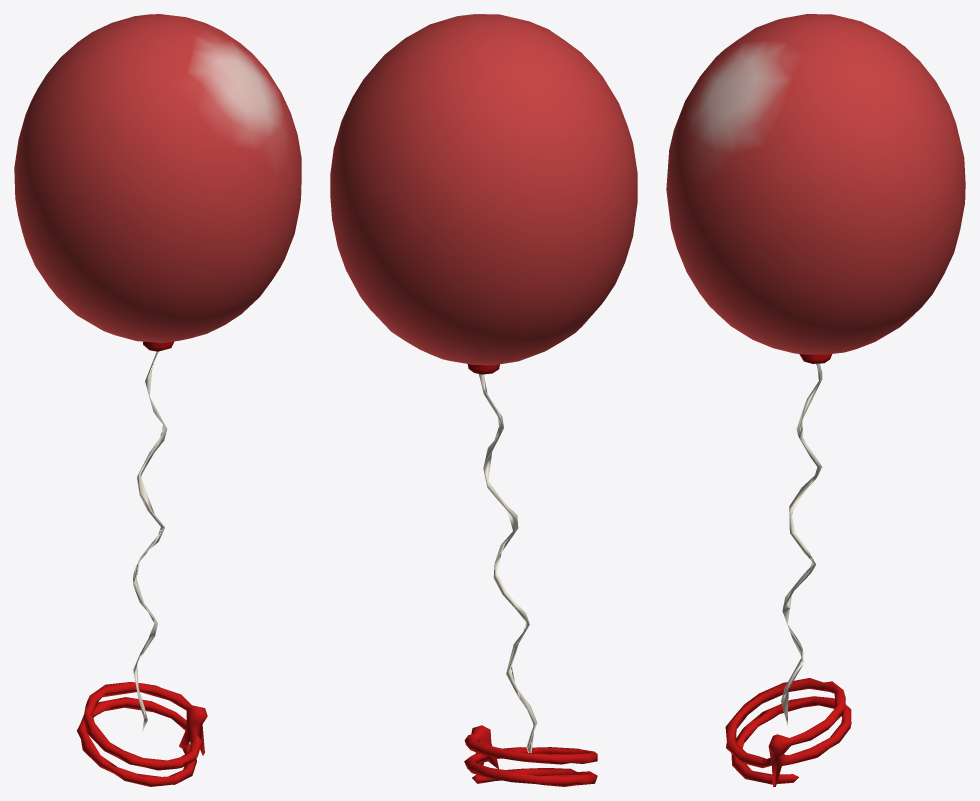
The model's file is bongbay.glb.
3 renders of one model, left to right at view 1: azimuth 30°, elevation 25°; view 2: azimuth 150°, elevation 25°; view 3: azimuth 270°, elevation 25°, orthographic. The views are drawn at different scales.
Visible parts, largest first — view 1: Bong, Day_Buoc, Day_Bong; view 2: Bong, Day_Buoc, Day_Bong; view 3: Bong, Day_Buoc, Day_Bong.
Boxes of the visible parts, left/top/right/bottom form: Bong: left=14, top=14, right=301, bottom=342; Day_Buoc: left=77, top=682, right=207, bottom=786; Day_Bong: left=133, top=351, right=167, bottom=732; Bong: left=330, top=14, right=637, bottom=365; Day_Buoc: left=464, top=725, right=597, bottom=786; Day_Bong: left=479, top=374, right=537, bottom=752; Bong: left=666, top=14, right=965, bottom=354; Day_Buoc: left=725, top=678, right=851, bottom=786; Day_Bong: left=781, top=363, right=822, bottom=727.
Bounding box in the file's own units: 0.128 × 0.3564 × 0.1281.
